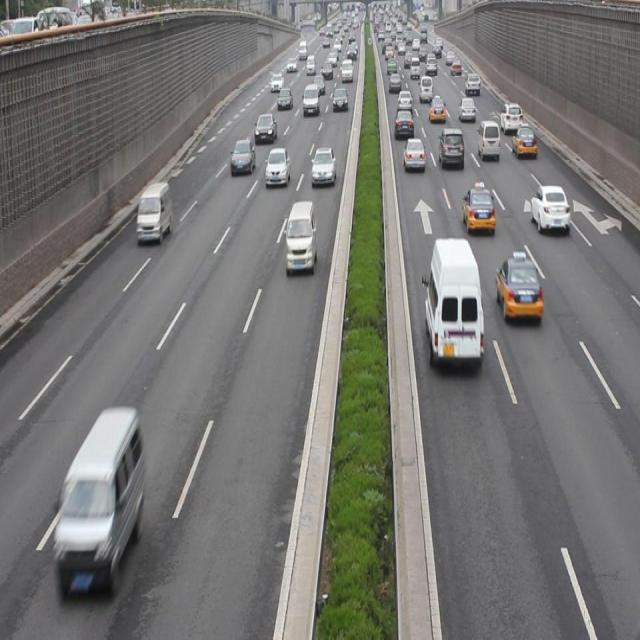car: (495, 251, 542, 327), (529, 185, 569, 236), (461, 183, 495, 234), (438, 127, 464, 167), (264, 147, 289, 186), (229, 139, 255, 175), (401, 136, 425, 174), (311, 148, 334, 186), (510, 128, 536, 160), (499, 102, 524, 135), (252, 112, 276, 143), (394, 109, 413, 140)
truck: (53, 408, 144, 588), (422, 239, 484, 368), (284, 198, 316, 274), (137, 184, 171, 246), (478, 121, 500, 158)
